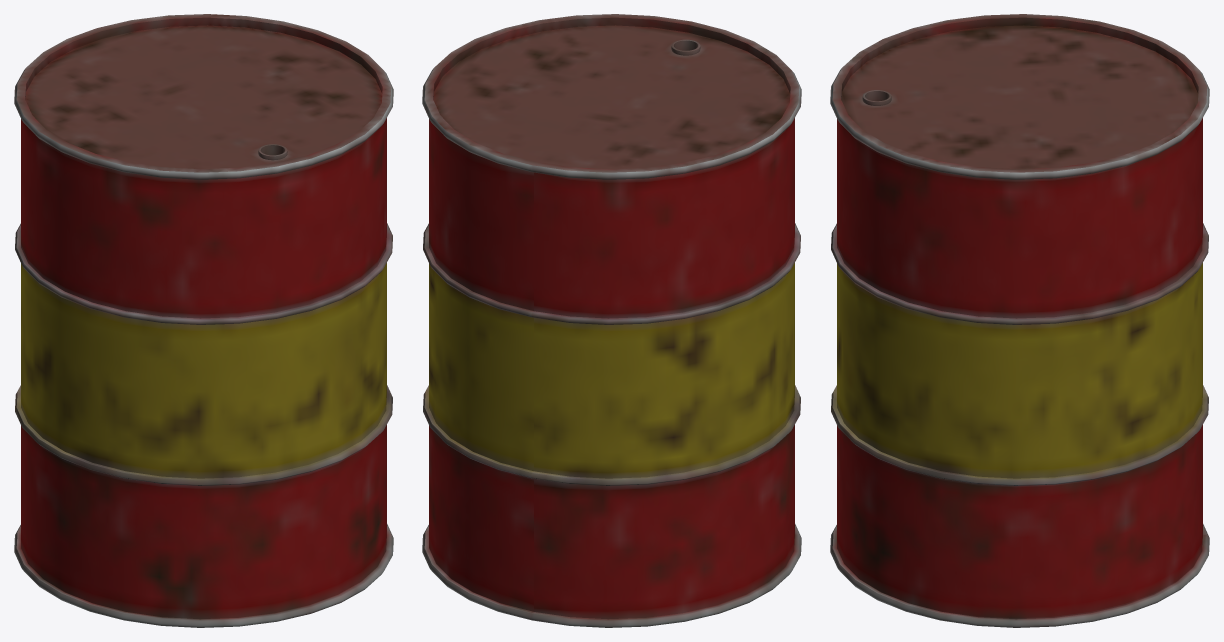
Rendered from Barrel.fbx.
3 views of the same model, side by side, from view 1: azimuth 30°, elevation 25°; view 2: azimuth 150°, elevation 25°; view 3: azimuth 270°, elevation 25° (orthographic).
Visible parts, largest first — view 1: Red Barrel; view 2: Red Barrel; view 3: Red Barrel.
Boxes of the visible parts, left/top/right/bottom form: Red Barrel: left=14, top=14, right=393, bottom=627; Red Barrel: left=422, top=14, right=801, bottom=627; Red Barrel: left=830, top=14, right=1209, bottom=627.
Bounding box in the file's own units: 111 × 146 × 111.
1 material, 1 textured.
